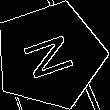N_E: (18, 28, 82, 83)
